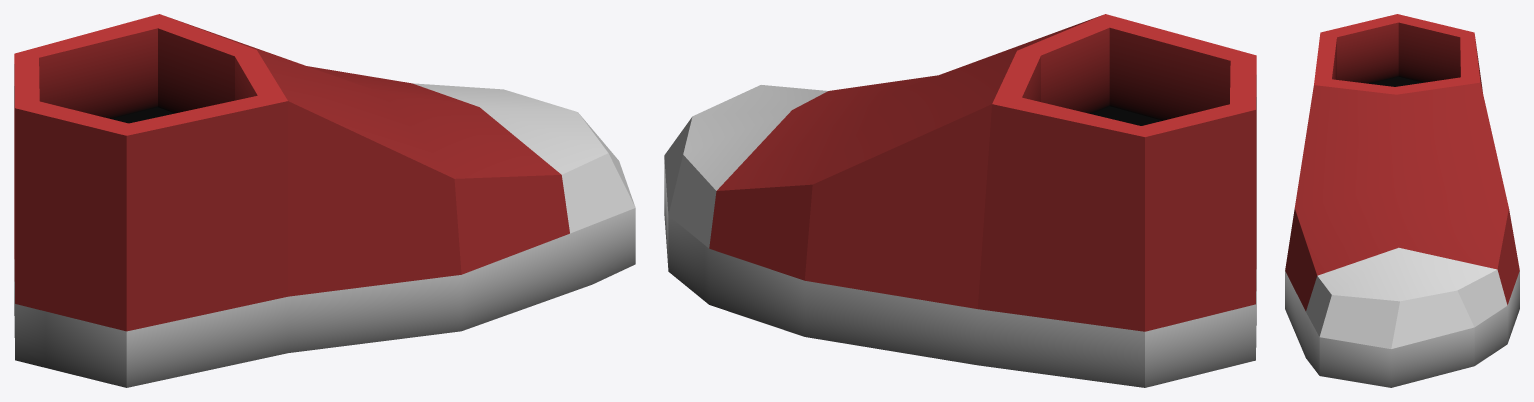
File: MODEL_PowerUp_Speed (1).fbx
3 renders of one model, left to right at view 1: azimuth 30°, elevation 25°; view 2: azimuth 150°, elevation 25°; view 3: azimuth 270°, elevation 25°, orthographic. The views are drawn at different scales.
Visible parts, largest first — view 1: MESH_Speed; view 2: MESH_Speed; view 3: MESH_Speed.
Boxes of the visible parts, x1,y1,x2,y2 form: MESH_Speed: (14,14,635,387); MESH_Speed: (664,14,1256,387); MESH_Speed: (1285,14,1519,387).
Bounding box in the file's own units: 67.36 × 27.07 × 33.27.
